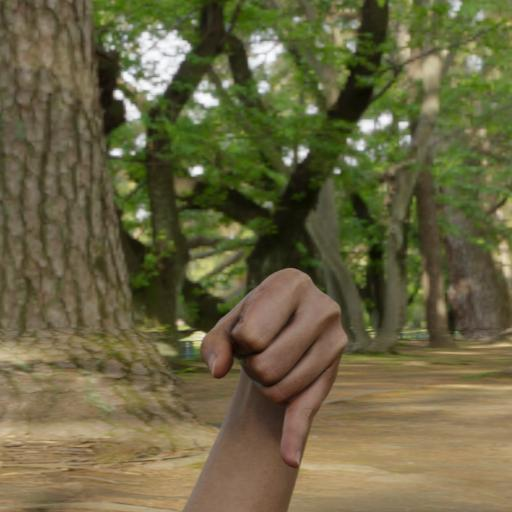J: (201, 264, 351, 470)
